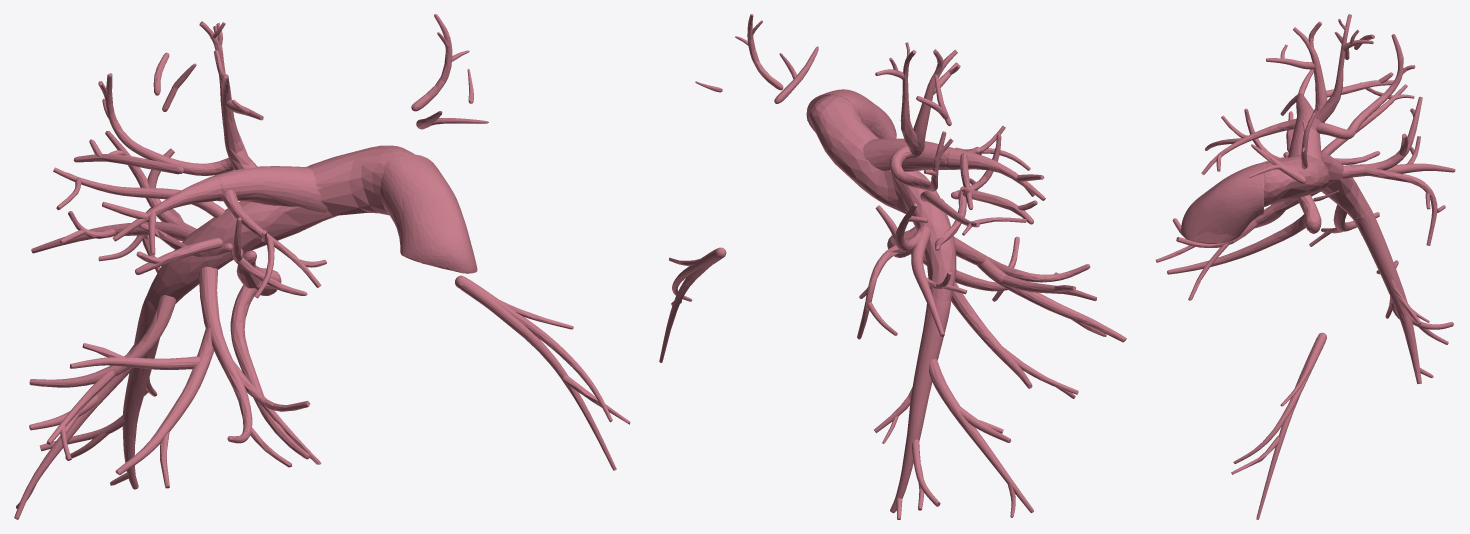
Rendered from cardiovascular-09.glb.
The picture shows the model from 3 angles, left to right: view 1: azimuth 30°, elevation 25°; view 2: azimuth 150°, elevation 25°; view 3: azimuth 270°, elevation 25°; orthographic projection. The views are drawn at different scales.
Parts seen in each view (by area): view 1: FJ3019, FJ2966, FJ2973, FJ2990, FJ3008, FJ3030, FJ2982, FJ3001, FJ2956, FJ3018, FJ2974, FJ3005 (+12 smaller); view 2: FJ3019, FJ3008, FJ2973, FJ3005, FJ2982, FJ2966, FJ3001, FJ2990, FJ2974, FJ2991, FJ3018, FJ2967 (+10 smaller); view 3: FJ2966, FJ3019, FJ3008, FJ3030, FJ3018, FJ2973, FJ2959, FJ2997, FJ2994, FJ2967, FJ2978, FJ2956 (+9 smaller).
Part boxes in pixels (<box>): FJ3019: <box>145,145,414,309</box>; FJ2966: <box>380,154,477,273</box>; FJ2973: <box>213,166,327,212</box>; FJ2990: <box>199,266,252,443</box>; FJ3008: <box>122,297,159,489</box>; FJ3030: <box>230,285,309,459</box>; FJ2982: <box>115,327,213,475</box>; FJ3001: <box>29,295,176,387</box>; FJ2956: <box>460,277,616,470</box>; FJ3018: <box>106,73,234,175</box>; FJ2974: <box>112,176,222,241</box>; FJ3005: <box>14,345,134,519</box>; FJ3019: <box>809,95,956,303</box>; FJ3008: <box>890,298,951,513</box>; FJ2973: <box>863,138,952,171</box>; FJ3005: <box>929,359,1033,513</box>; FJ2982: <box>977,257,1126,342</box>; FJ2966: <box>806,89,896,138</box>; FJ3001: <box>951,281,1032,388</box>; FJ2990: <box>954,236,1090,282</box>; FJ2974: <box>945,148,1045,200</box>; FJ2991: <box>911,225,944,336</box>; FJ3018: <box>889,131,946,191</box>; FJ2967: <box>909,49,957,158</box>; FJ2966: <box>1181,162,1265,243</box>; FJ3019: <box>1264,151,1369,219</box>; FJ3008: <box>1353,204,1421,383</box>; FJ3030: <box>1167,214,1305,274</box>; FJ3018: <box>1316,34,1403,139</box>; FJ2973: <box>1288,109,1322,160</box>; FJ2959: <box>1233,332,1326,463</box>; FJ2997: <box>1348,96,1422,176</box>; FJ2994: <box>1365,168,1437,245</box>; FJ2967: <box>1293,27,1327,130</box>; FJ2978: <box>1316,14,1351,122</box>; FJ2956: <box>1256,336,1326,519</box>.
Bounding box in the file's own units: 0.2334 × 0.2101 × 0.1508.
